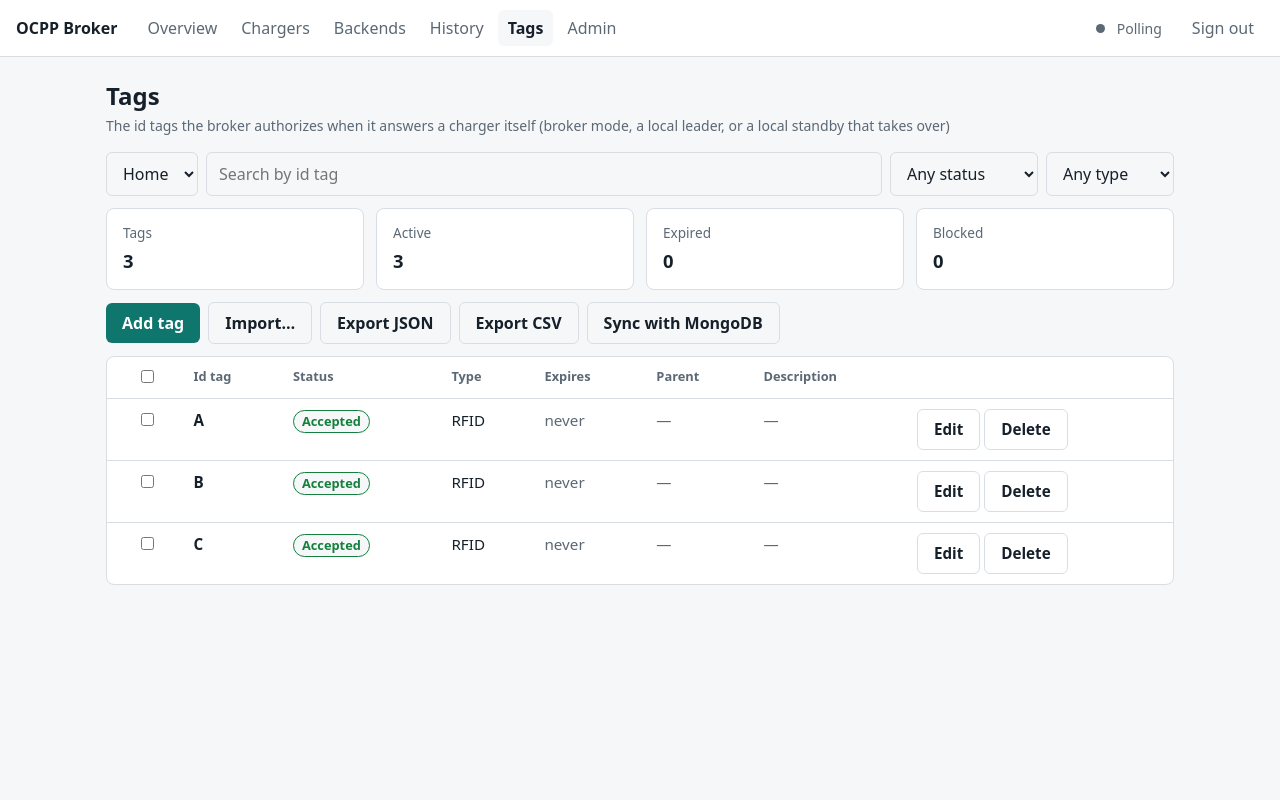
Test: deleting and bulk changes › selects tags and sets them all to Blocked or Accepted in one go
The image size is (1280, 800).
Expected: the heading "Tags" is shown, [106,79,160,112]
Expected: the column heading "A" is shown, [180,399,279,460]
Click the checkbox named "Select A": click(147, 420) [125,413,170,426]
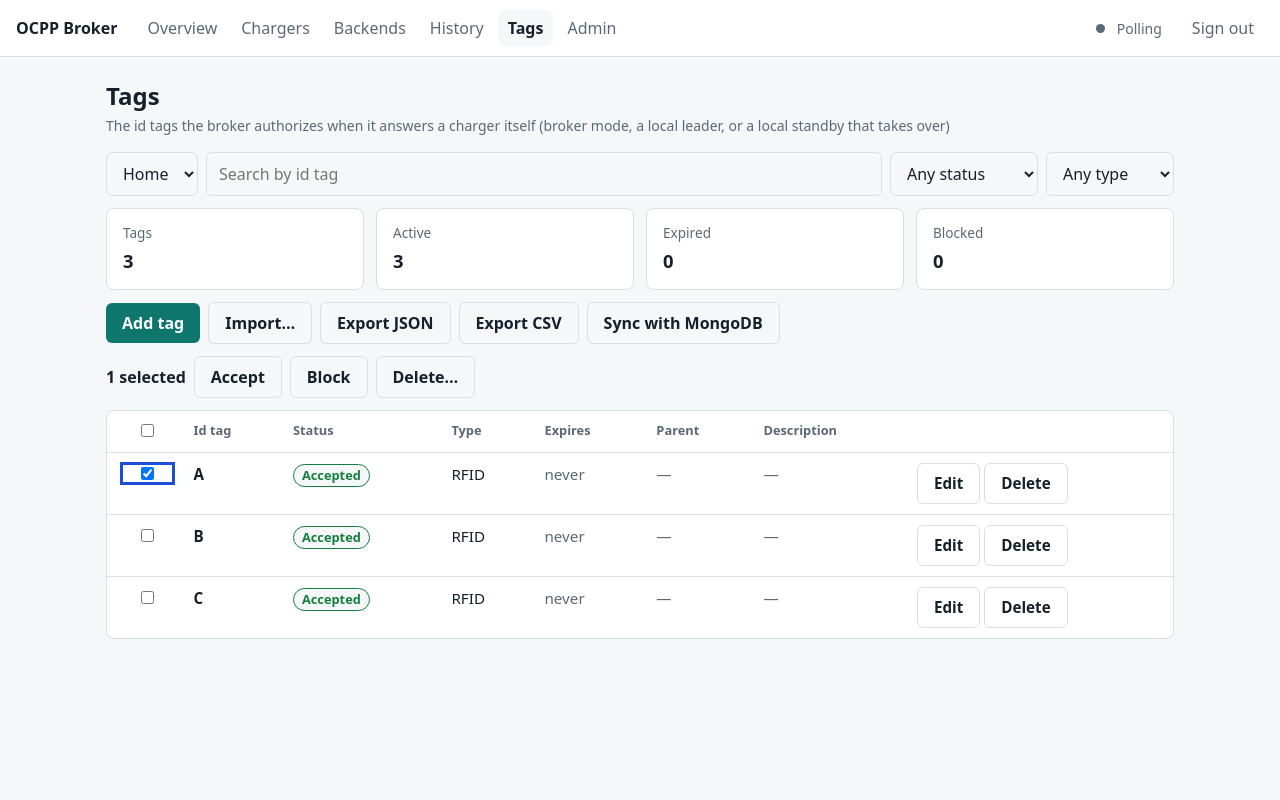
Click the checkbox named "Select B": click(147, 536) [125,529,170,542]
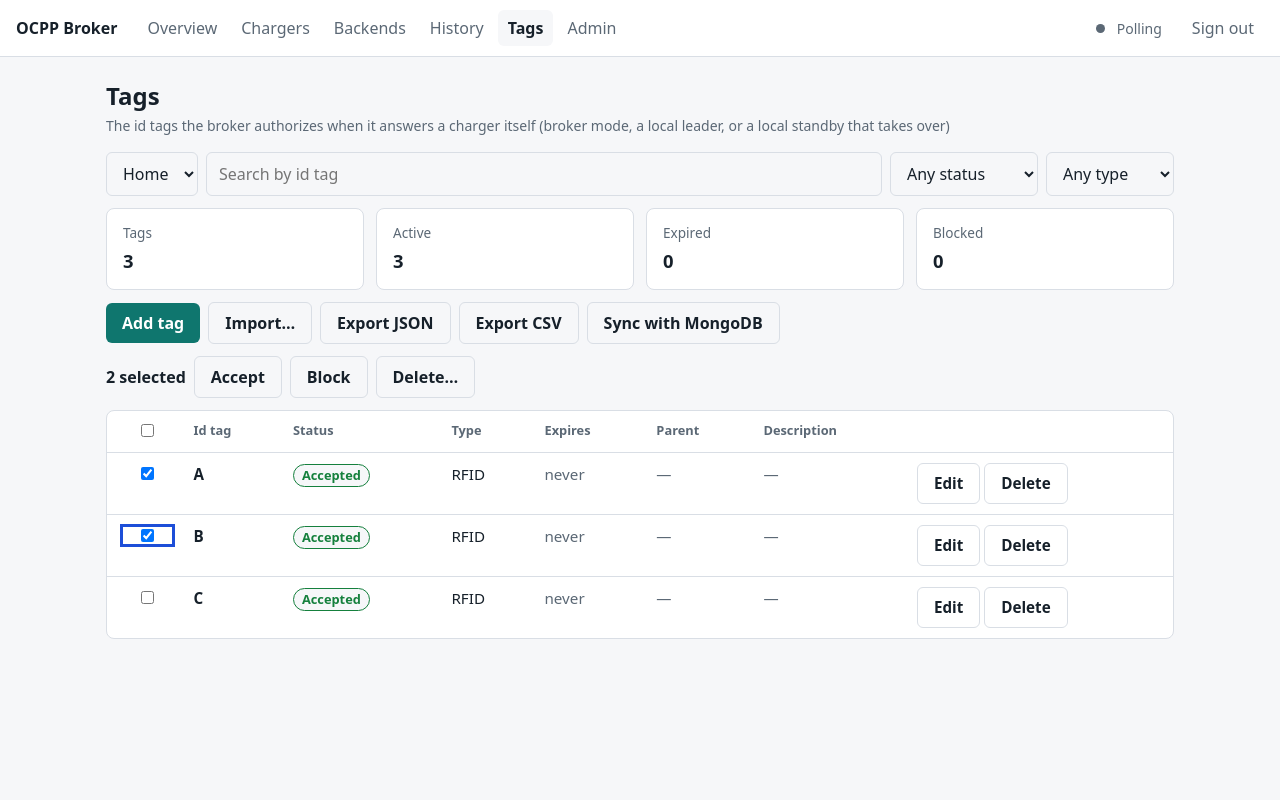
Expected: the text "2 selected" is shown, [106,365,186,389]
Click the button "Block": click(329, 377) [290,356,368,398]
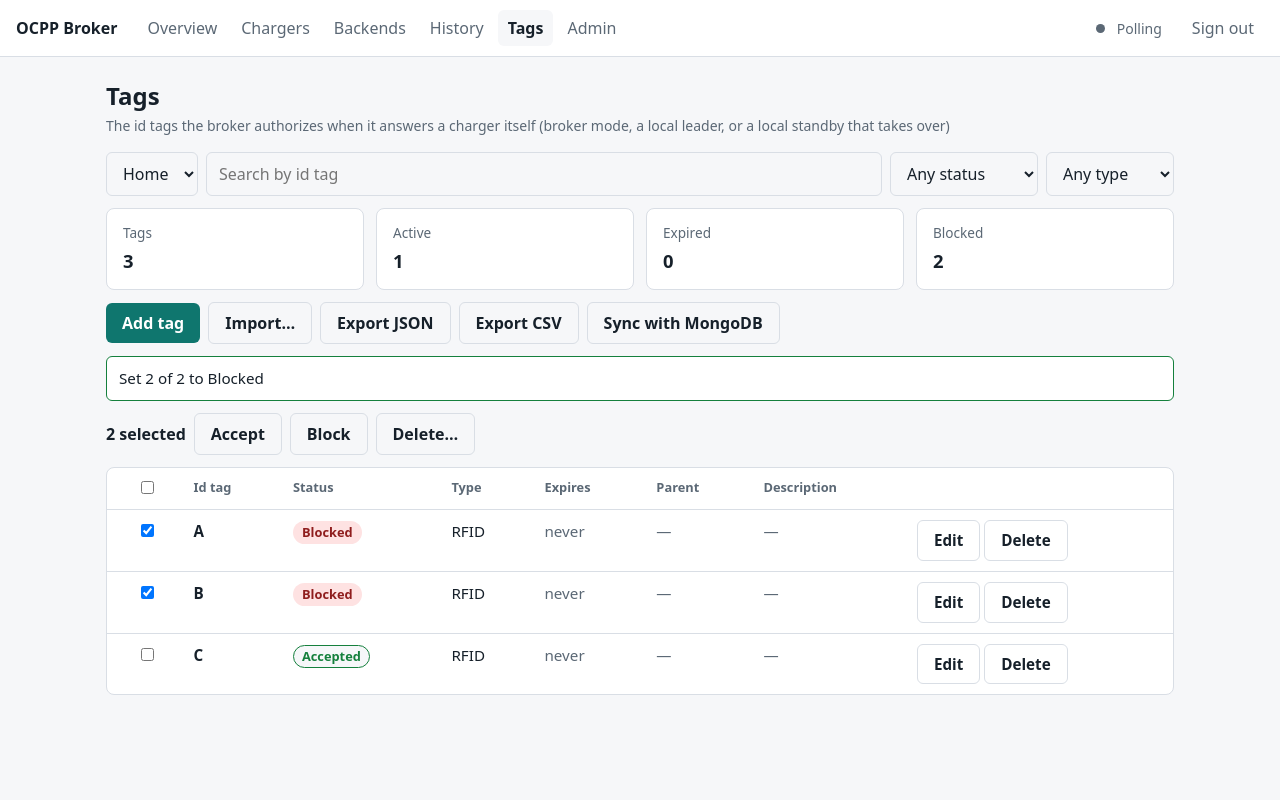
Expected: the text "Set 2 of 2 to Blocked" is shown, [106,356,1174,401]
Click the button "Accept": click(238, 434) [194,413,282,455]
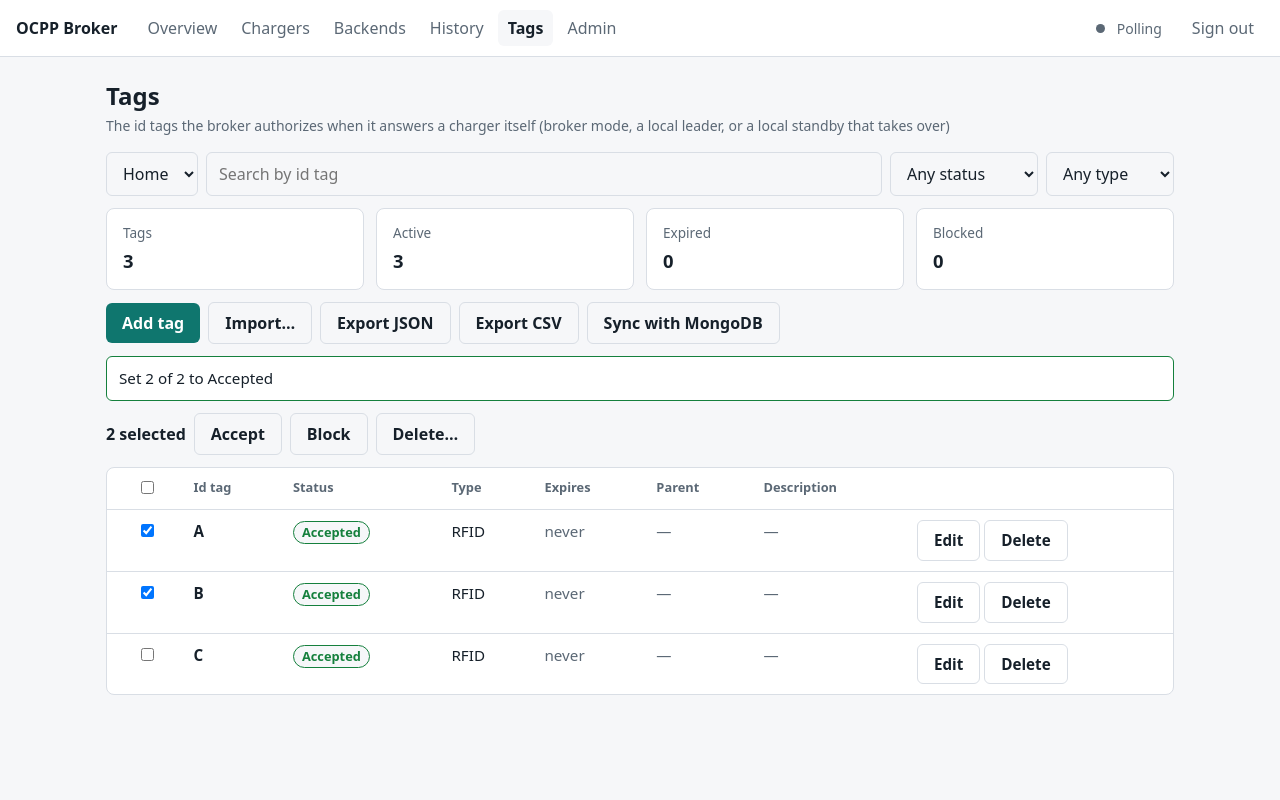
Expected: the text "Set 2 of 2 to Accepted" is shown, [106,356,1174,401]
